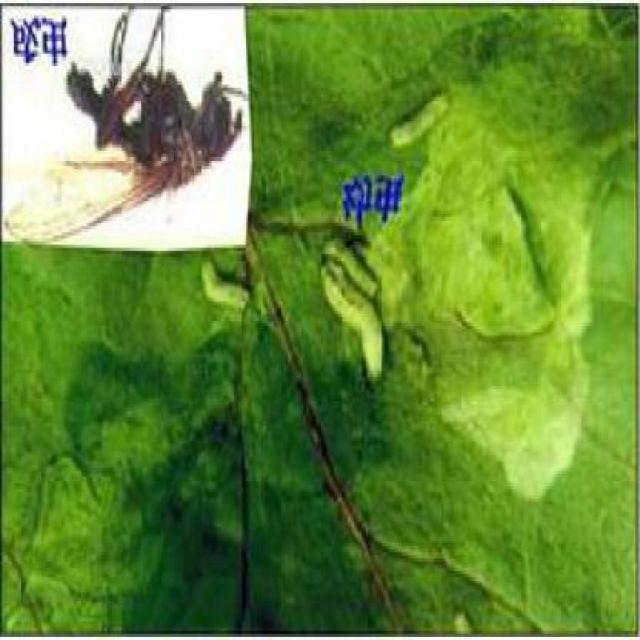whorl-maggot: (317, 232, 386, 380), (386, 80, 456, 160), (198, 252, 256, 317)
